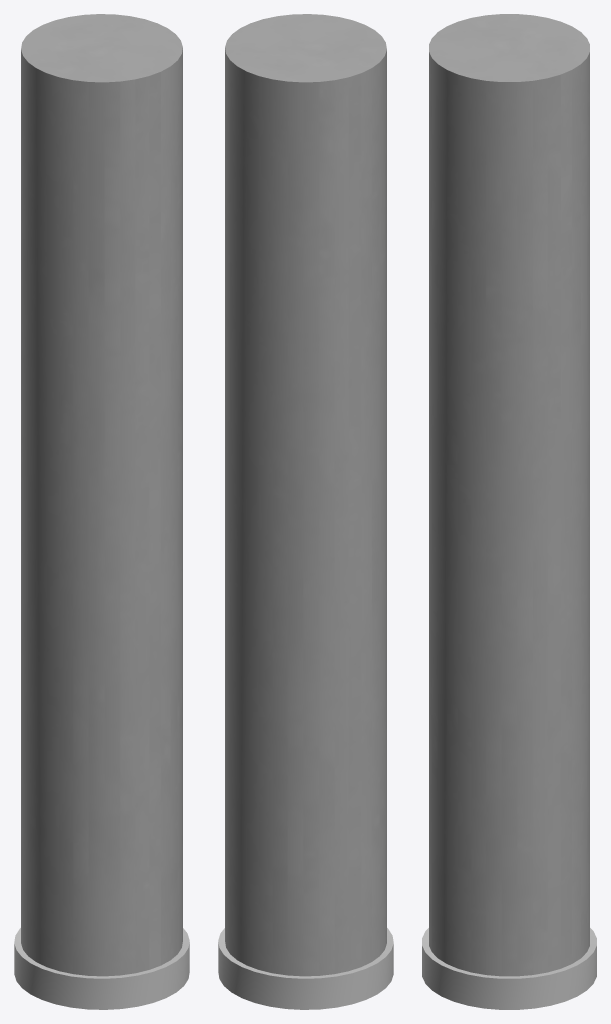
File: SM_Pillar_01.fbx
3 renders of one model, left to right at view 1: azimuth 30°, elevation 25°; view 2: azimuth 150°, elevation 25°; view 3: azimuth 270°, elevation 25°, orthographic.
Visible parts, largest first — view 1: SM_Pillar_01_LOD0; view 2: SM_Pillar_01_LOD0; view 3: SM_Pillar_01_LOD0.
Part boxes in pixels (box(x1,y1,x2,y2)): SM_Pillar_01_LOD0: box(14, 14, 189, 1009); SM_Pillar_01_LOD0: box(218, 14, 393, 1009); SM_Pillar_01_LOD0: box(422, 14, 596, 1009).
Bounding box in the file's own units: 54 × 54 × 315.
